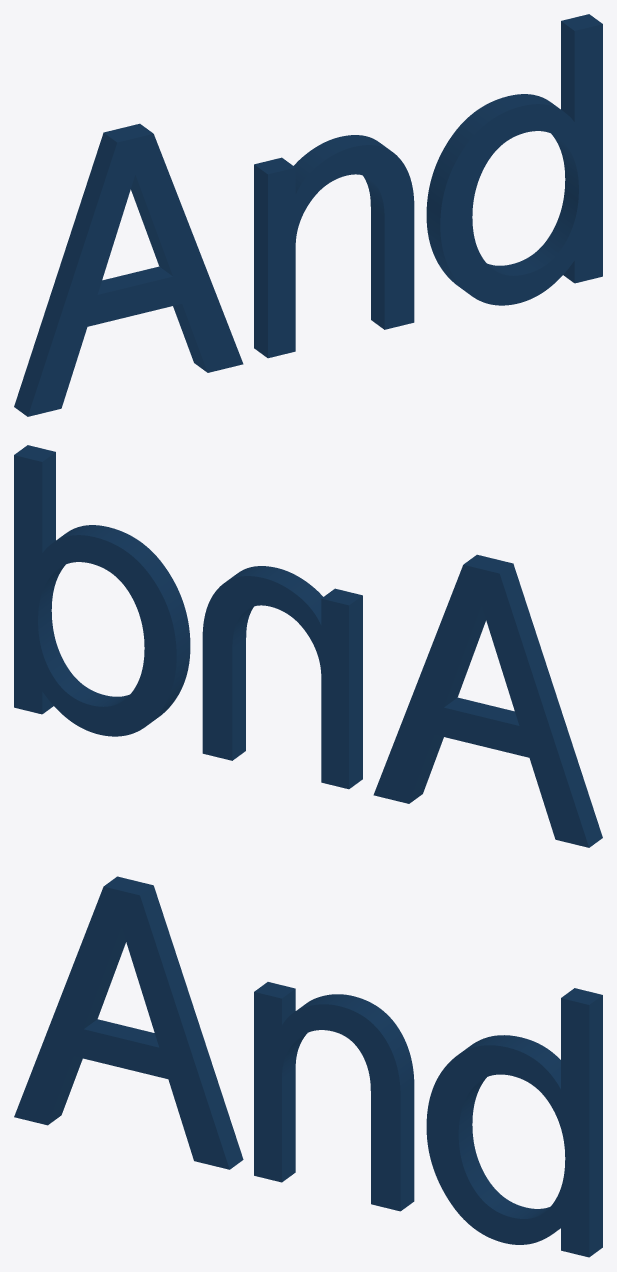
File: and.glb
3 views of the same model, one above another, from view 1: azimuth 30°, elevation 25°; view 2: azimuth 150°, elevation 25°; view 3: azimuth 330°, elevation 25° (orthographic).
Parts seen in each view (by area): view 1: mesh_0; view 2: mesh_0; view 3: mesh_0.
Boxes of the visible parts, x1,y1,x2,y2 form: mesh_0: [14, 14, 602, 416]; mesh_0: [14, 445, 602, 847]; mesh_0: [14, 876, 602, 1257].
Bounding box in the file's own units: 2.41 × 1.04 × 0.0999.
